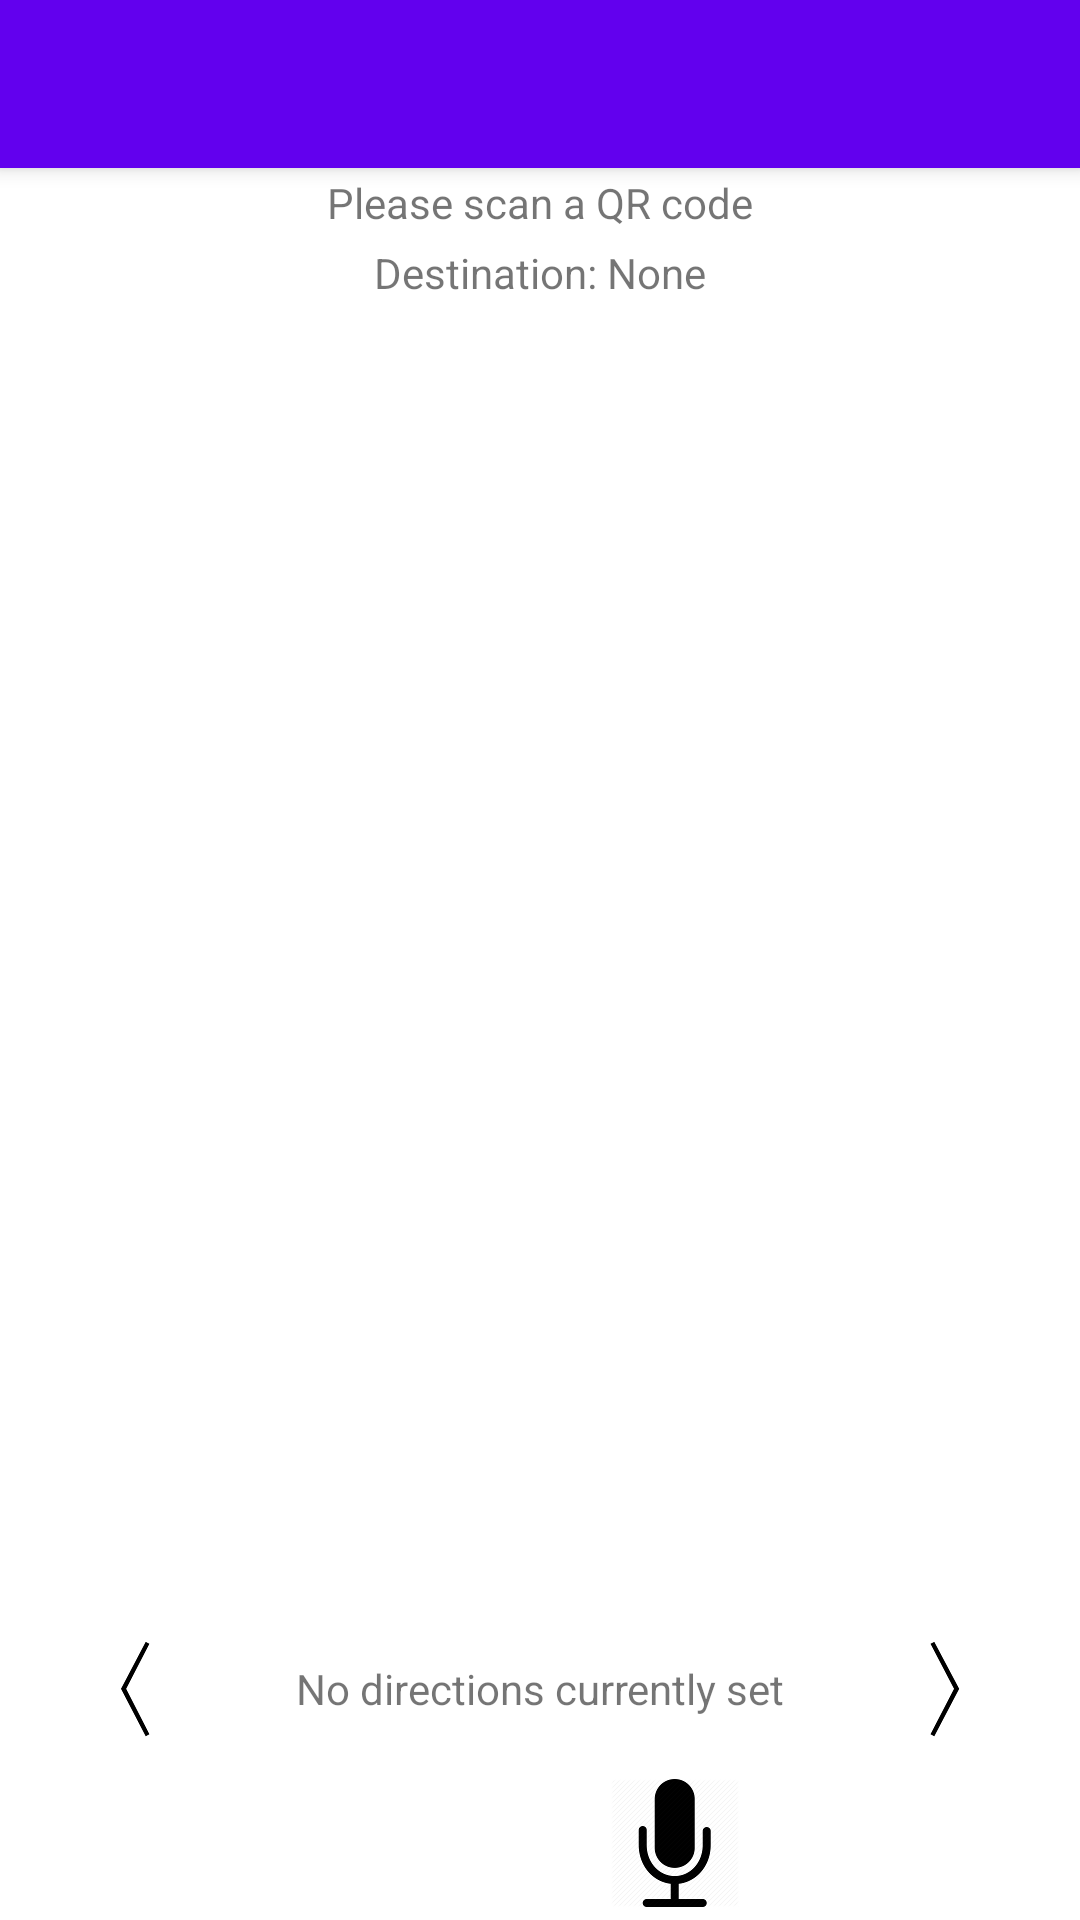

Point at icon controls on the screen. Image size 1080px x 1920px, points as (x=x, y=y).
left arrow bracket: (x=135, y=1689)
mic: (x=674, y=1843)
right arrow bracket: (x=944, y=1689)
